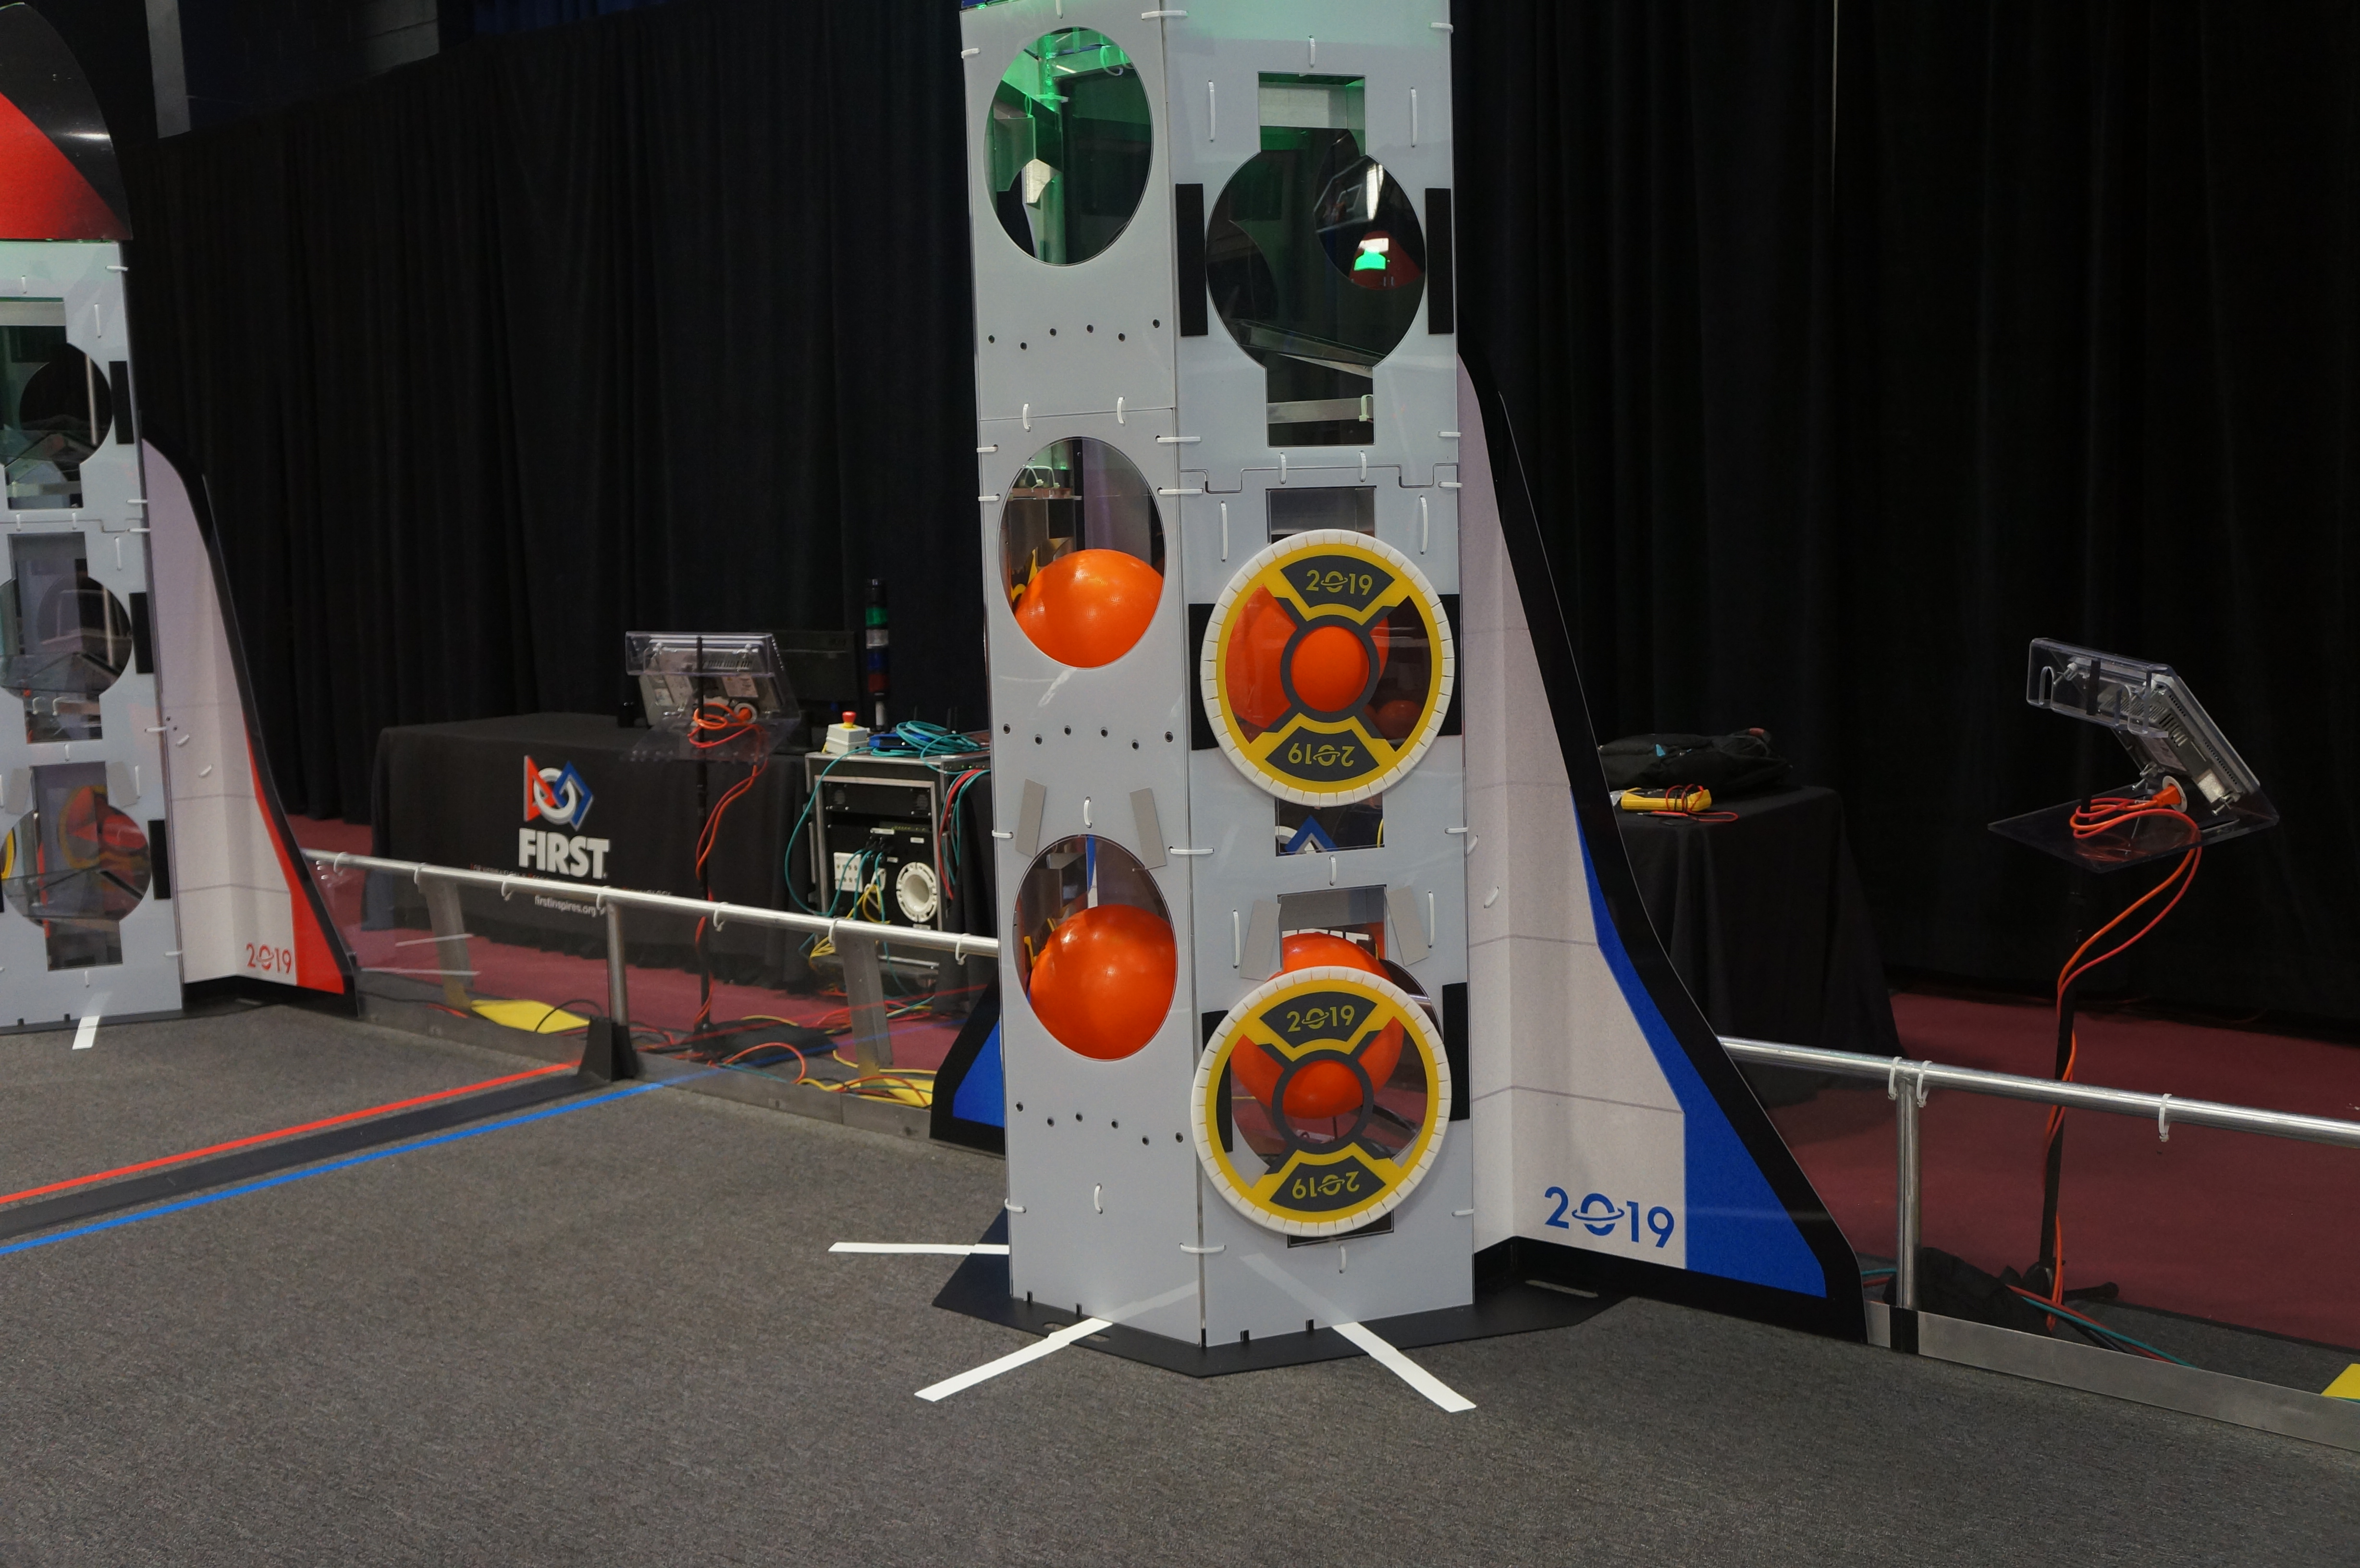Ball: (1216, 924, 1407, 1111), (1232, 572, 1398, 726), (1025, 899, 1184, 1055), (1009, 542, 1170, 672)
Hatch: (1204, 527, 1461, 814), (1186, 969, 1450, 1237)
Tape: (1232, 894, 1286, 982), (1387, 879, 1428, 971), (1130, 784, 1170, 870), (1016, 780, 1050, 859), (2, 763, 31, 817), (108, 763, 140, 808)
